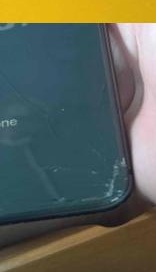physical_damage: (0, 23, 115, 174), (0, 171, 95, 246), (87, 147, 126, 202)
